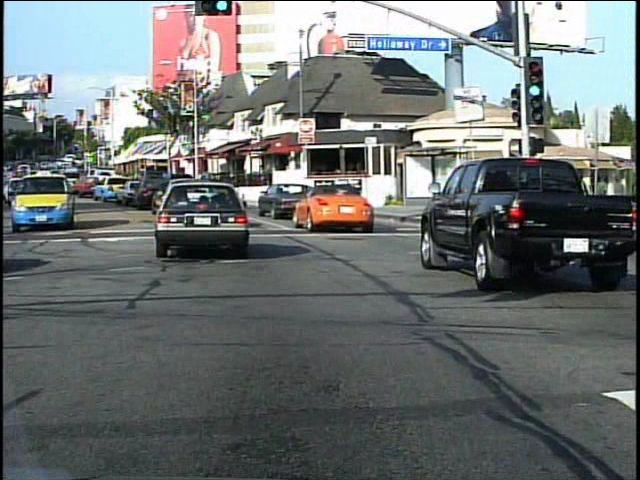person: (589, 186, 612, 254)
